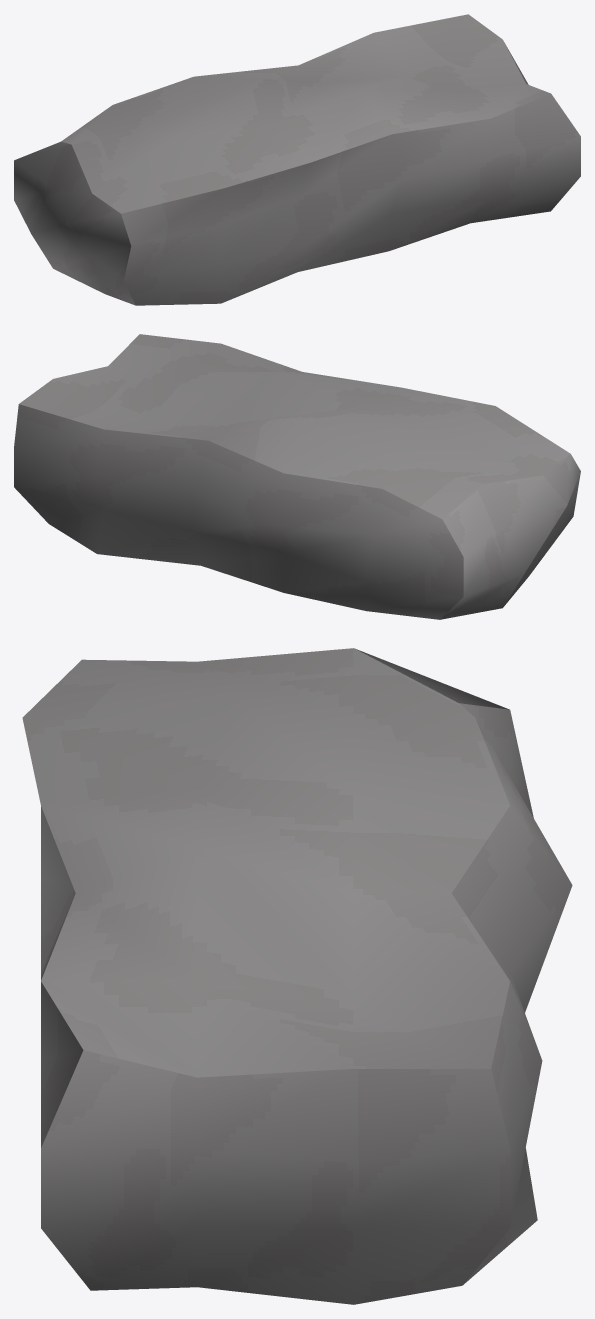
Rendered from RockMedium.fbx.
3 renders of one model, top to bottom at view 1: azimuth 30°, elevation 25°; view 2: azimuth 150°, elevation 25°; view 3: azimuth 270°, elevation 25°, orthographic. The views are drawn at different scales.
Parts seen in each view (by area): view 1: RockMedium; view 2: RockMedium; view 3: RockMedium.
Part boxes in pixels (x1,y1,x2,y2): RockMedium: (14,14,580,305); RockMedium: (14,334,580,619); RockMedium: (22,648,572,1304).
Size of the model in its own units: 1759 by 486 by 855.
Materials: 1 (1 with a texture image).
